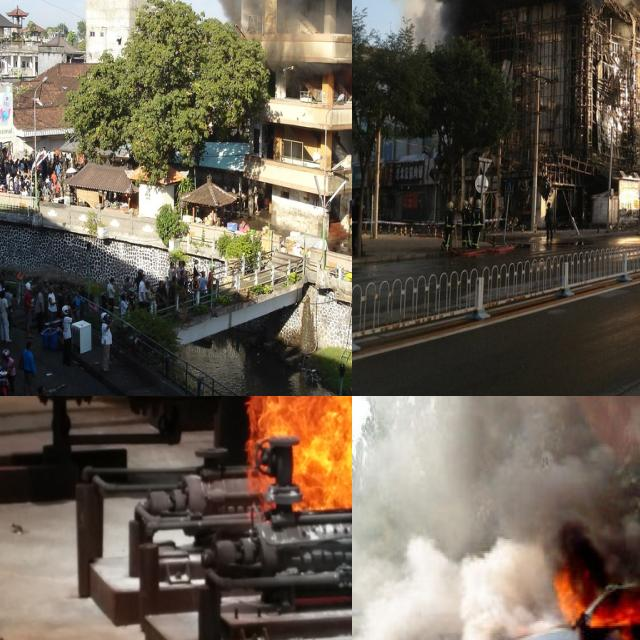fire: (245, 396, 352, 560), (553, 550, 640, 640)
smoke: (352, 396, 640, 640), (366, 0, 640, 107), (209, 0, 352, 88)
